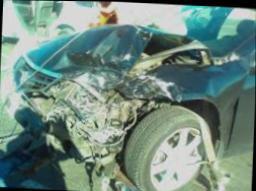Bonnet: (22, 23, 218, 90)
Bumper: (7, 91, 140, 163)
Fender: (117, 52, 248, 101)
Light: (88, 90, 134, 114)
